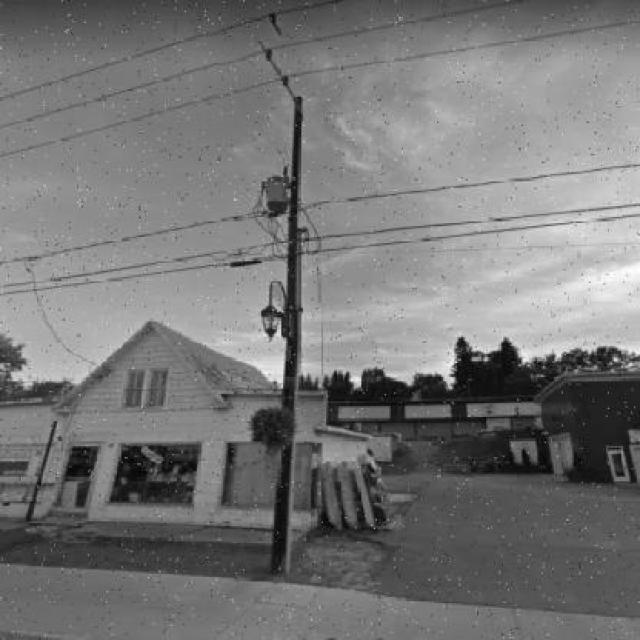pole: (242, 34, 344, 583)
